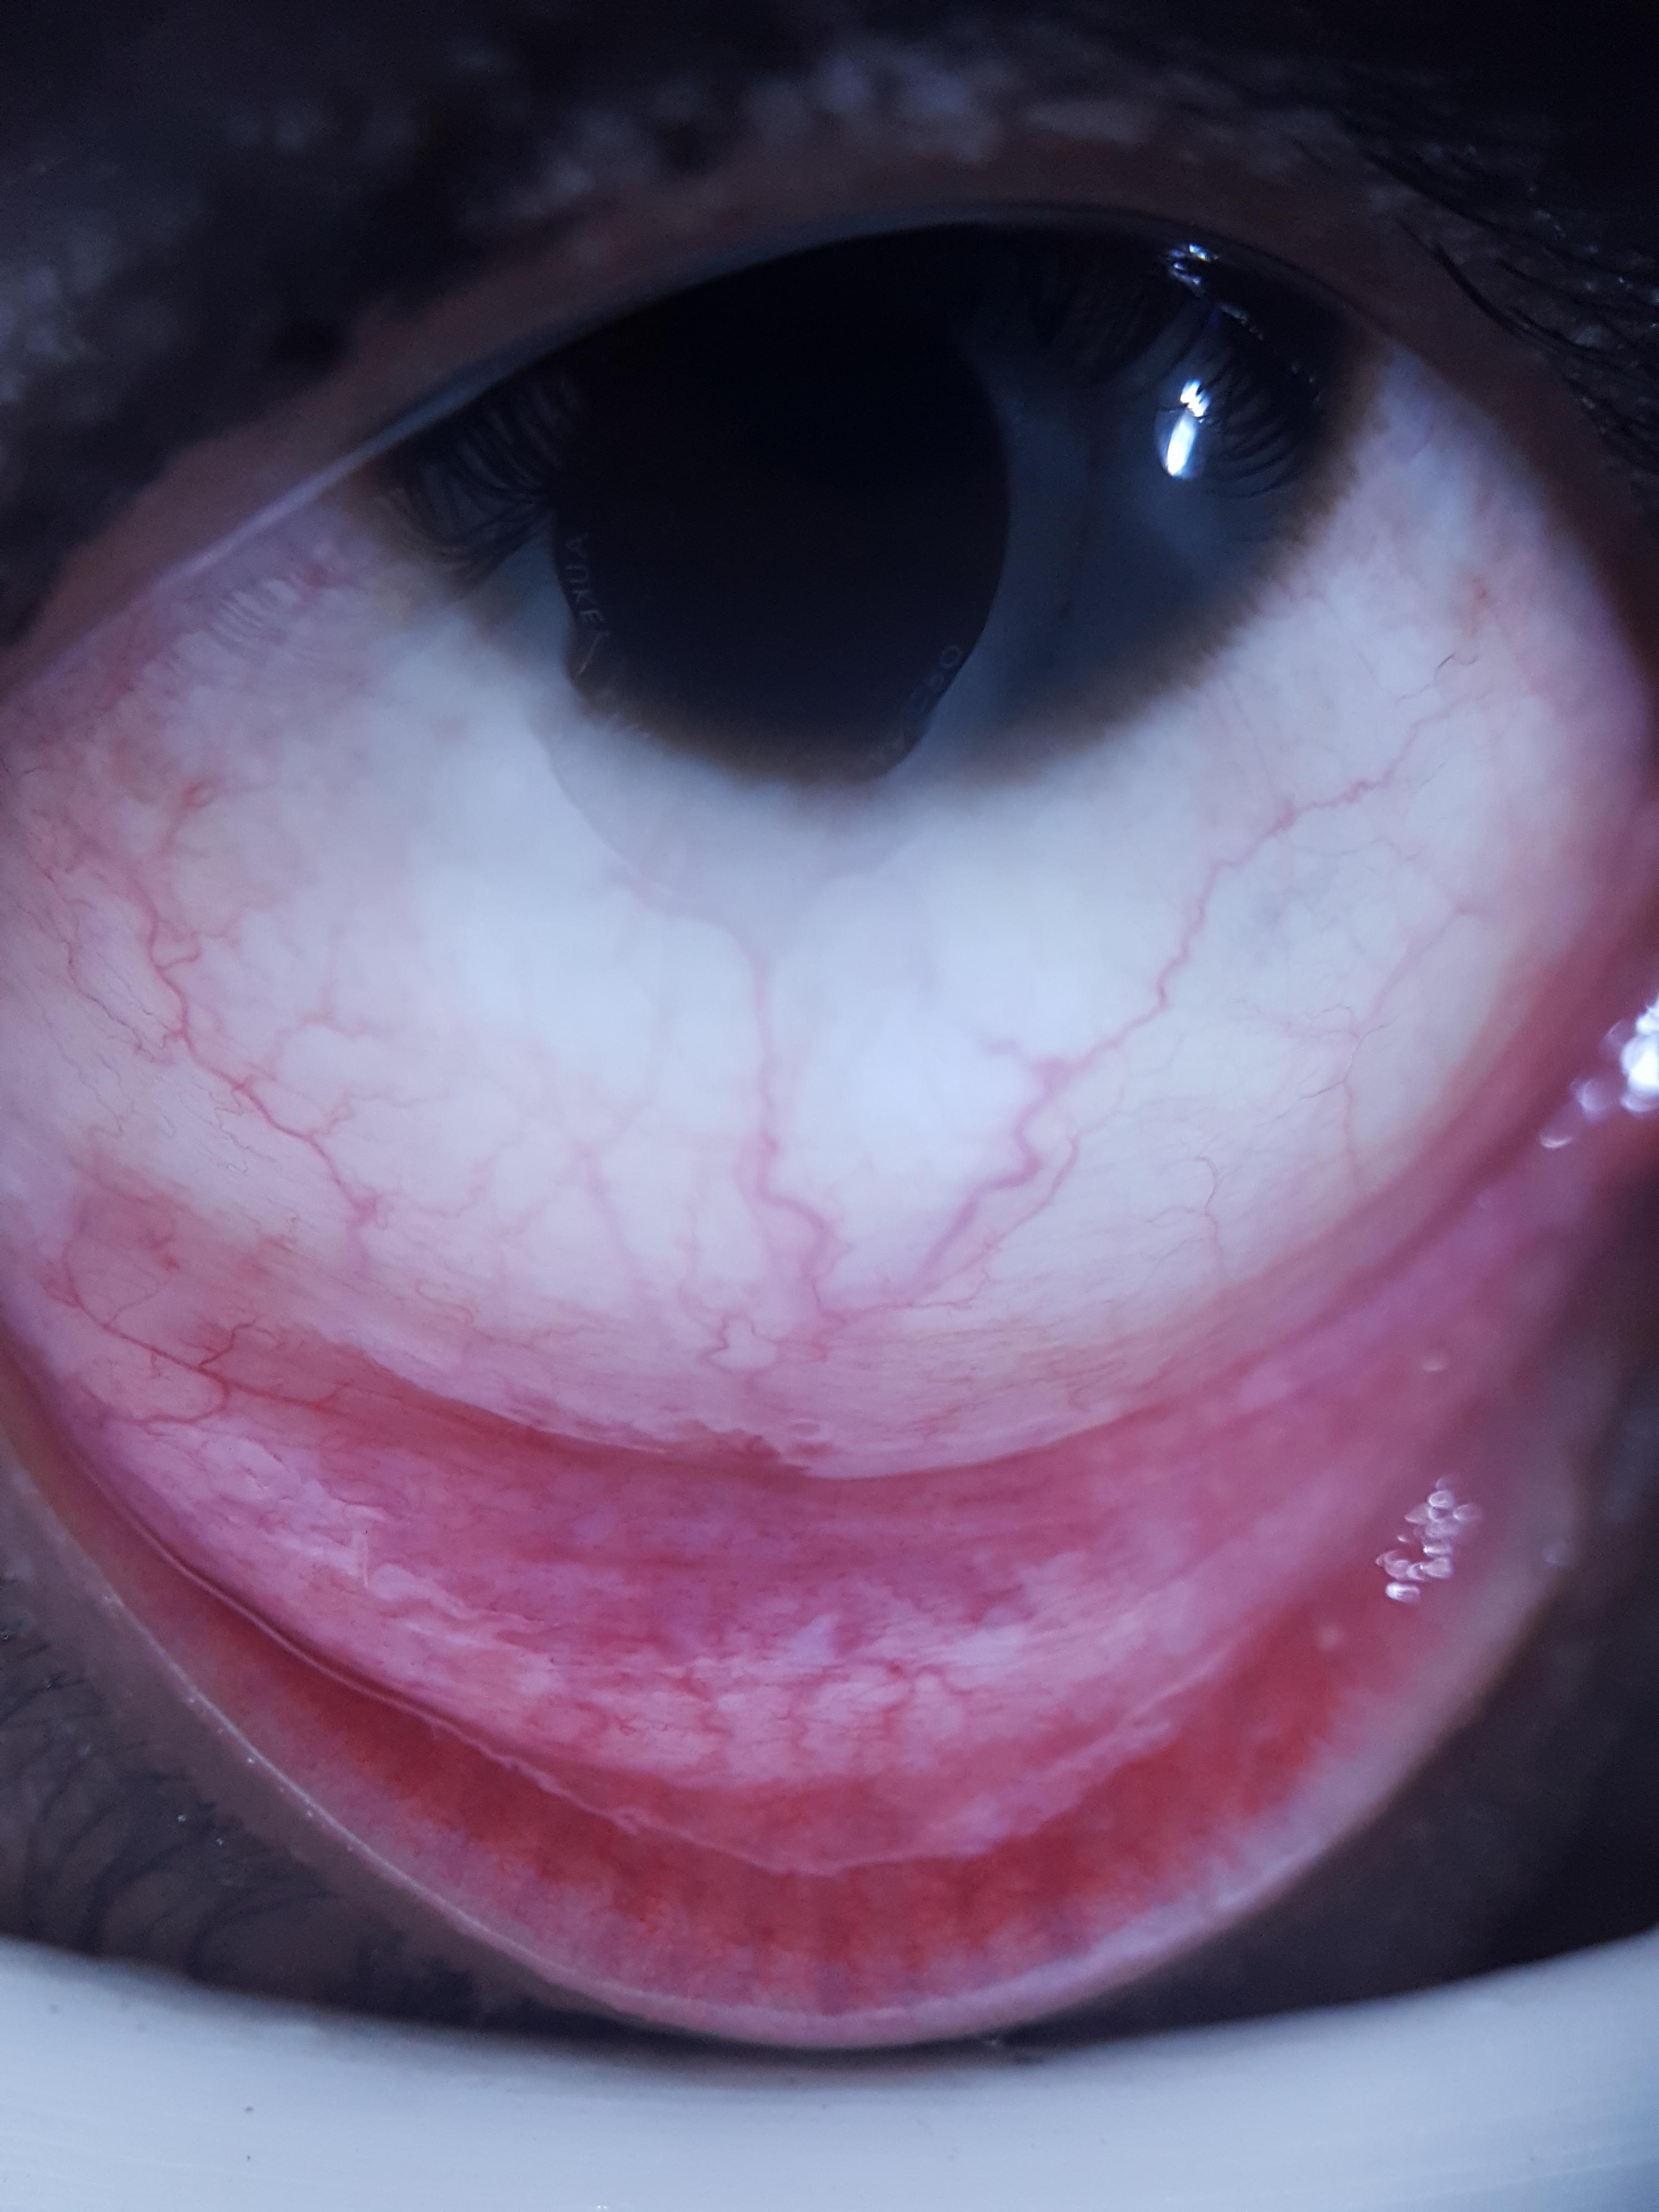forniceal: (0, 1103, 1601, 1869)
forniceal_palpebral: (0, 1094, 1607, 1996)
palpebral: (0, 1261, 1568, 1986)
